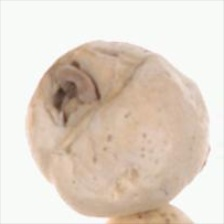L3: (48, 61, 113, 124)
L4: (27, 40, 210, 217)
